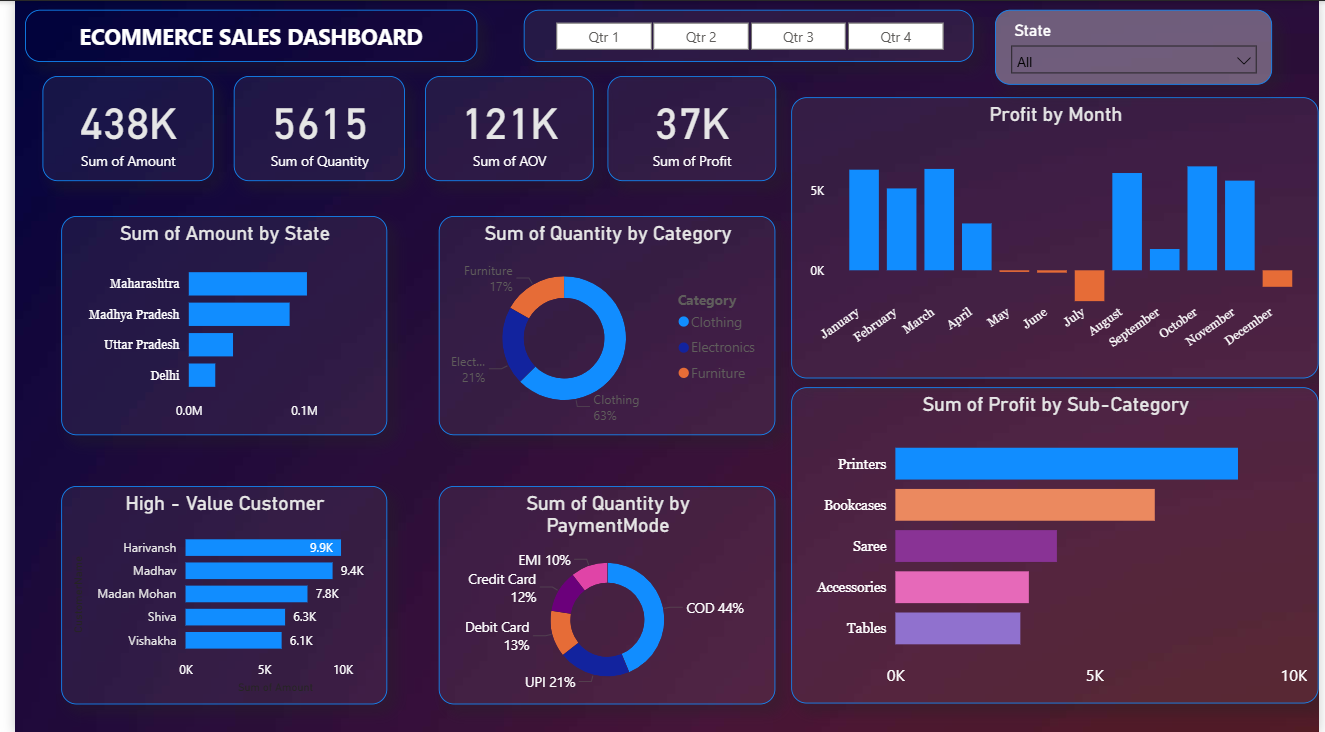

This screenshot's page, from the dashboard's own definition file:
{"tool":"powerbi","page":{"name":"Page 1","canvas":[1280,720],"ordinal":0},"visuals":[{"type":"textbox","box":[9.6,0,444.6,45.3],"z":0},{"type":"columnChart","title":" Profit by Month","fields":{"Category":["Orders.Order Date.Variation.Date Hierarchy.Month"],"Y":["Sum(Details.Profit)"]},"box":[762,94.5,517.8,276.1],"z":1000},{"type":"barChart","fields":{"Category":["Details.Sub-Category"],"Y":["Sum(Details.Profit)"]},"box":[762,379.1,517.8,310.4],"z":2000},{"type":"donutChart","fields":{"Category":["Details.PaymentMode"],"Y":["Sum(Details.Quantity)"]},"box":[415.8,476.2,330.7,214.1],"z":3000},{"type":"donutChart","fields":{"Category":["Details.Category"],"Y":["Sum(Details.Quantity)"]},"box":[415.8,211.3,330.7,215.4],"z":4000},{"type":"card","fields":{"Values":["Sum(Details.Amount)"]},"box":[27,73.6,168.1,103.1],"z":5000},{"type":"card","fields":{"Values":["Sum(Details.Profit)"]},"box":[581.6,73.6,165.6,103.1],"z":6000},{"type":"card","fields":{"Values":["Sum(Details.AOV)"]},"box":[402.5,73.6,165.6,103.1],"z":7000},{"type":"card","fields":{"Values":["Sum(Details.Quantity)"]},"box":[214.7,73.6,168.1,103.1],"z":8000},{"type":"barChart","fields":{"Category":["Orders.State"],"Y":["Sum(Details.Amount)"]},"box":[45.3,211.3,319.7,215.4],"z":9000},{"type":"barChart","title":"High - Value Customer","fields":{"Category":["Orders.CustomerName"],"Y":["Sum(Details.Amount)"]},"box":[45.3,476.2,319.7,214.1],"z":10000},{"type":"slicer","fields":{"Values":["Orders.Order Date.Variation.Date Hierarchy.Quarter"]},"box":[499.4,8.6,441.7,51.5],"z":11000},{"type":"slicer","fields":{"Values":["Orders.State"]},"box":[962,8.6,272.4,77.3],"z":12000}]}

Visuals, with their boxes in screenshot pixels (x1, y1, x2, y2), scaled from the page's 1280x720 canvas onto the 1325x732 screenshot:
textbox: {"left": 10, "top": 0, "right": 470, "bottom": 46}
" Profit by Month" columnChart: {"left": 789, "top": 96, "right": 1324, "bottom": 377}
barChart - Details.Sub-Category x Sum(Details.Profit): {"left": 789, "top": 385, "right": 1324, "bottom": 701}
donutChart - Details.PaymentMode x Sum(Details.Quantity): {"left": 430, "top": 484, "right": 773, "bottom": 702}
donutChart - Details.Category x Sum(Details.Quantity): {"left": 430, "top": 215, "right": 773, "bottom": 434}
card - Sum(Details.Amount): {"left": 28, "top": 75, "right": 202, "bottom": 180}
card - Sum(Details.Profit): {"left": 602, "top": 75, "right": 773, "bottom": 180}
card - Sum(Details.AOV): {"left": 417, "top": 75, "right": 588, "bottom": 180}
card - Sum(Details.Quantity): {"left": 222, "top": 75, "right": 396, "bottom": 180}
barChart - Orders.State x Sum(Details.Amount): {"left": 47, "top": 215, "right": 378, "bottom": 434}
"High - Value Customer" barChart: {"left": 47, "top": 484, "right": 378, "bottom": 702}
slicer - Orders.Order Date.Variation.Date Hierarchy.Quarter: {"left": 517, "top": 9, "right": 974, "bottom": 61}
slicer - Orders.State: {"left": 996, "top": 9, "right": 1278, "bottom": 87}
